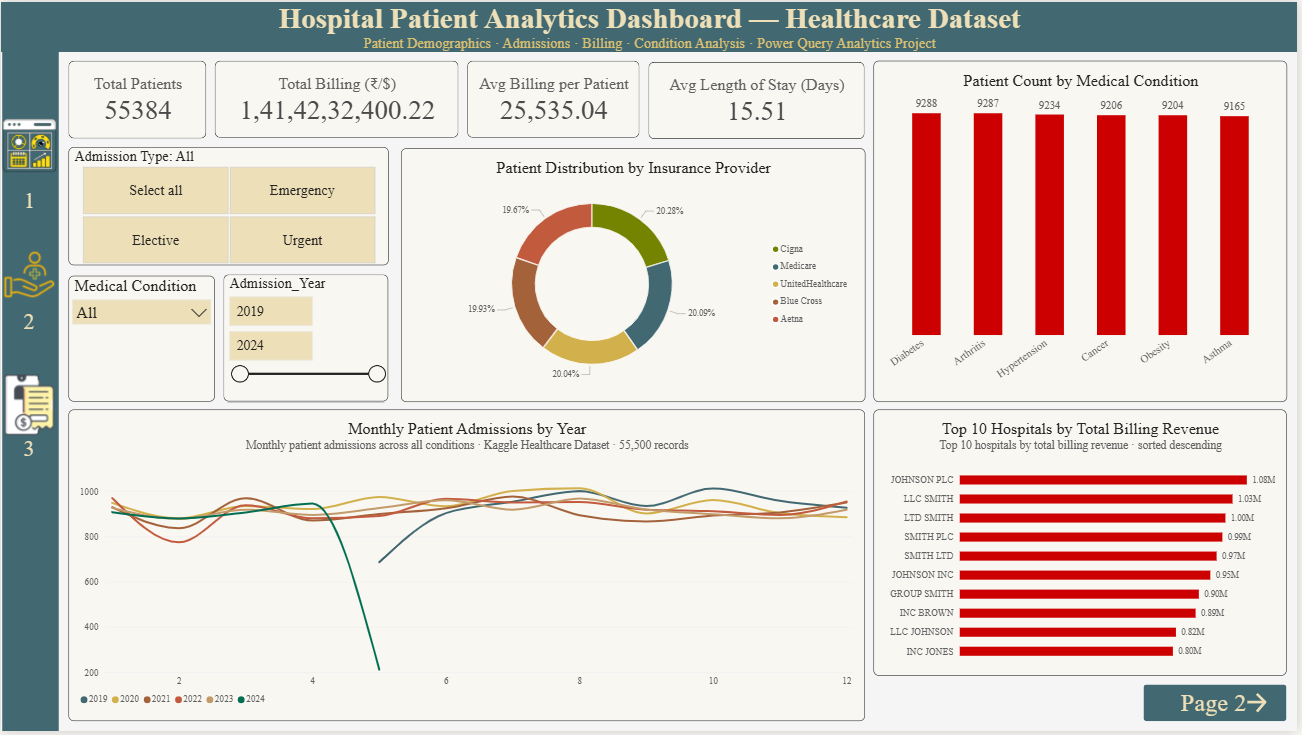

The dashboard page shown, as its layout file describes it:
{"tool":"powerbi","page":{"name":"Dashboard","canvas":[1920,1080],"ordinal":0},"visuals":[{"type":"shape","box":[1.4,0,83.7,1080.4],"z":0,"group":"g1"},{"type":"cardVisual","fields":{"Data":["CountNonNull(healthcare_dataset.Patient_ID)"]},"box":[99.5,86.9,204.5,115.8],"z":0},{"type":"cardVisual","fields":{"Data":["Sum(healthcare_dataset.Billing_Amount_Fixed)"]},"box":[316.7,87,361.1,114.8],"z":1000},{"type":"actionButton","box":[0,150.2,85.1,215.3],"z":1000,"group":"g1"},{"type":"cardVisual","fields":{"Data":["Avg(healthcare_dataset.Billing_Amount_Fixed)"]},"box":[690.7,87,255.6,114.8],"z":2000},{"type":"actionButton","box":[0.8,352.9,83.7,215.3],"z":2000,"group":"g1"},{"type":"cardVisual","fields":{"Data":["Avg(healthcare_dataset.Length_of_Stay_Days)"]},"box":[960,88,320,114],"z":3000},{"type":"actionButton","box":[0.8,551.9,83.7,215.3],"z":3000,"group":"g1"},{"type":"columnChart","title":"Patient Count by Medical Condition","fields":{"Category":["Condition_Summary.Medical Condition"],"Y":["Sum(Condition_Summary.Patient_Count)"]},"box":[1292.6,87,613,505.6],"z":4000},{"type":"barChart","title":"Top 10 Hospitals by Total Billing Revenue","fields":{"Category":["Hospital_Summary.Hospital"],"Y":["Sum(Hospital_Summary.Total_Revenue)"]},"box":[1292,604,612,394],"z":5000},{"type":"lineChart","title":"Monthly Patient Admissions by Year","fields":{"Category":["Monthly_Admissions.Admission_Month_Num"],"Series":["Monthly_Admissions.Admission_Year"],"Y":["Sum(Monthly_Admissions.Monthly_Count)"]},"box":[99.5,604.4,1179.9,461.5],"z":6000},{"type":"donutChart","title":"Patient Distribution by Insurance Provider","fields":{"Category":["Insurance_Summary.Insurance Provider"],"Y":["Sum(Insurance_Summary.Covered_Patients)"]},"box":[592,216,688,376],"z":7000},{"type":"slicer","fields":{"Values":["Admissions_Full.Admission Type"]},"box":[99.5,215.3,474.1,175.5],"z":8000},{"type":"slicer","fields":{"Values":["Admissions_Full.Medical Condition"]},"box":[99.5,405.4,217.2,186.4],"z":9000},{"type":"slicer","fields":{"Values":["Admissions_Full.Admission_Year"]},"box":[329.4,403.6,244.3,188.2],"z":10000},{"type":"shape","box":[0,0,1920.4,74.1],"z":11000},{"type":"textbox","box":[16.7,0,1888.9,74.1],"z":12000},{"type":"actionButton","box":[1692,1011.6,211.7,54.3],"z":13000},{"type":"group","id":"g1","title":"Group 1","box":[0,0,85.1,1080.4],"z":14000}]}

Visuals, with their boxes on the page's 1920x1080 design canvas (x1, y1, x2, y2). These are canvas units, not pixel positions in the 1302x735 screenshot, which may show the page scaled, cropped or inside an application window:
shape: bbox=[1, 0, 85, 1080]
cardVisual - CountNonNull(healthcare_dataset.Patient_ID): bbox=[100, 87, 304, 203]
cardVisual - Sum(healthcare_dataset.Billing_Amount_Fixed): bbox=[317, 87, 678, 202]
actionButton: bbox=[0, 150, 85, 366]
cardVisual - Avg(healthcare_dataset.Billing_Amount_Fixed): bbox=[691, 87, 946, 202]
actionButton: bbox=[1, 353, 84, 568]
cardVisual - Avg(healthcare_dataset.Length_of_Stay_Days): bbox=[960, 88, 1280, 202]
actionButton: bbox=[1, 552, 84, 767]
"Patient Count by Medical Condition" columnChart: bbox=[1293, 87, 1906, 593]
"Top 10 Hospitals by Total Billing Revenue" barChart: bbox=[1292, 604, 1904, 998]
"Monthly Patient Admissions by Year" lineChart: bbox=[100, 604, 1279, 1066]
"Patient Distribution by Insurance Provider" donutChart: bbox=[592, 216, 1280, 592]
slicer - Admissions_Full.Admission Type: bbox=[100, 215, 574, 391]
slicer - Admissions_Full.Medical Condition: bbox=[100, 405, 317, 592]
slicer - Admissions_Full.Admission_Year: bbox=[329, 404, 574, 592]
shape: bbox=[0, 0, 1920, 74]
textbox: bbox=[17, 0, 1906, 74]
actionButton: bbox=[1692, 1012, 1904, 1066]
"Group 1" group: bbox=[0, 0, 85, 1080]
